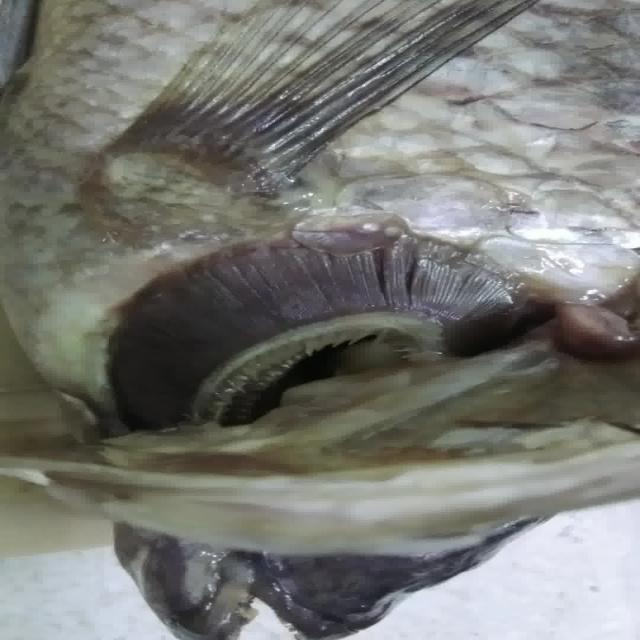Non-Fresh: (81, 223, 557, 424)
